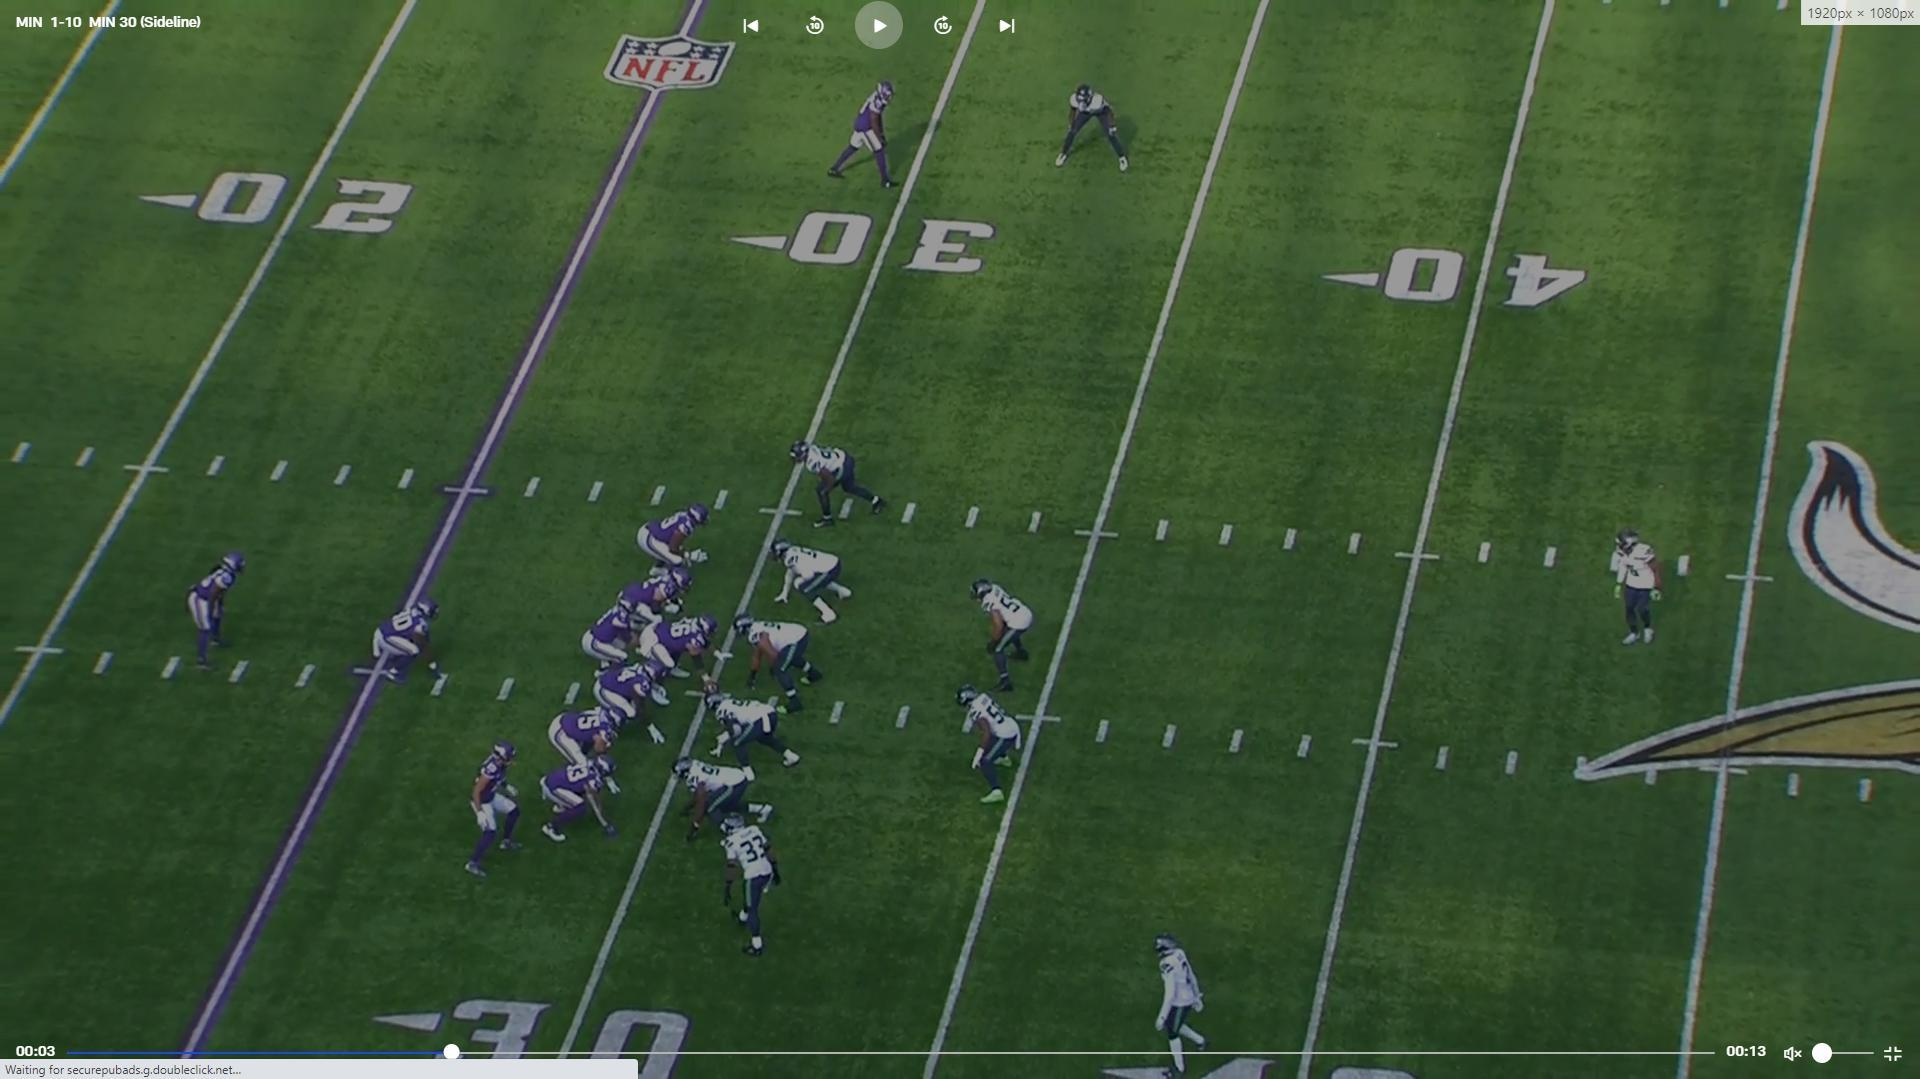defense: (793, 435, 895, 526), (1050, 75, 1137, 179), (960, 683, 1031, 809), (721, 817, 783, 959), (1147, 931, 1213, 1064), (732, 613, 823, 710), (674, 753, 779, 835), (707, 694, 803, 778), (975, 576, 1040, 695), (1609, 528, 1668, 657), (773, 538, 857, 625)
oline: (636, 609, 723, 704), (546, 711, 626, 799), (637, 503, 711, 596), (592, 661, 669, 751), (618, 570, 688, 646)
qb: (583, 594, 653, 686)
skill: (823, 75, 902, 193), (468, 739, 529, 881), (185, 549, 249, 667), (535, 757, 616, 847), (373, 596, 447, 694)
